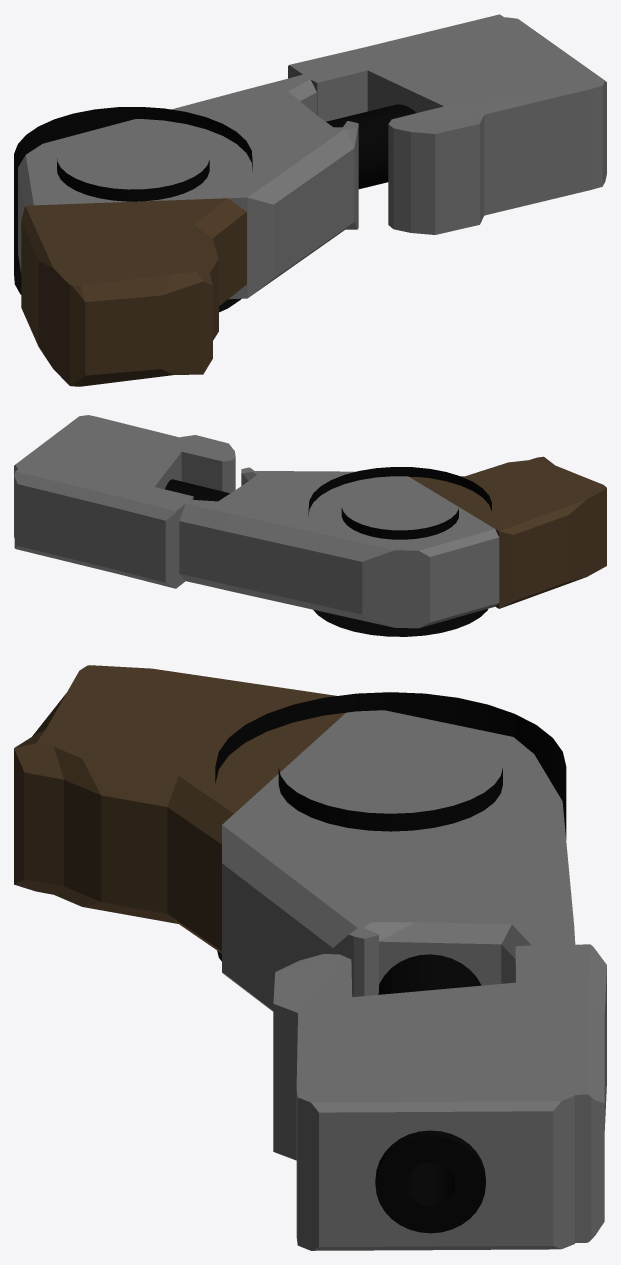
Rendered from Grapling Hook.fbx.
The picture shows the model from 3 angles, top to bottom: view 1: azimuth 30°, elevation 25°; view 2: azimuth 150°, elevation 25°; view 3: azimuth 270°, elevation 25°; orthographic projection. The views are drawn at different scales.
Visible parts, largest first — view 1: Handguard, Grip, Body, Magazine, Barrel; view 2: Body, Handguard, Grip, Magazine, Barrel; view 3: Handguard, Body, Grip, Magazine, Barrel.
Part boxes in pixels (x1=…): Handguard: x1=288, y1=14, x2=606, y2=234; Grip: x1=21, y1=198, x2=246, y2=386; Body: x1=18, y1=74, x2=358, y2=299; Magazine: x1=14, y1=107, x2=252, y2=312; Barrel: x1=326, y1=104, x2=416, y2=189; Body: x1=179, y1=467, x2=499, y2=628; Handguard: x1=14, y1=415, x2=235, y2=588; Grip: x1=410, y1=456, x2=606, y2=608; Magazine: x1=308, y1=467, x2=491, y2=636; Barrel: x1=165, y1=479, x2=229, y2=501; Handguard: x1=273, y1=944, x2=606, y2=1250; Body: x1=222, y1=710, x2=575, y2=1011; Grip: x1=14, y1=665, x2=345, y2=953; Magazine: x1=215, y1=692, x2=566, y2=961; Barrel: x1=375, y1=954, x2=485, y2=1233.
Bounding box in the file's own units: 1289 × 239 × 725.
